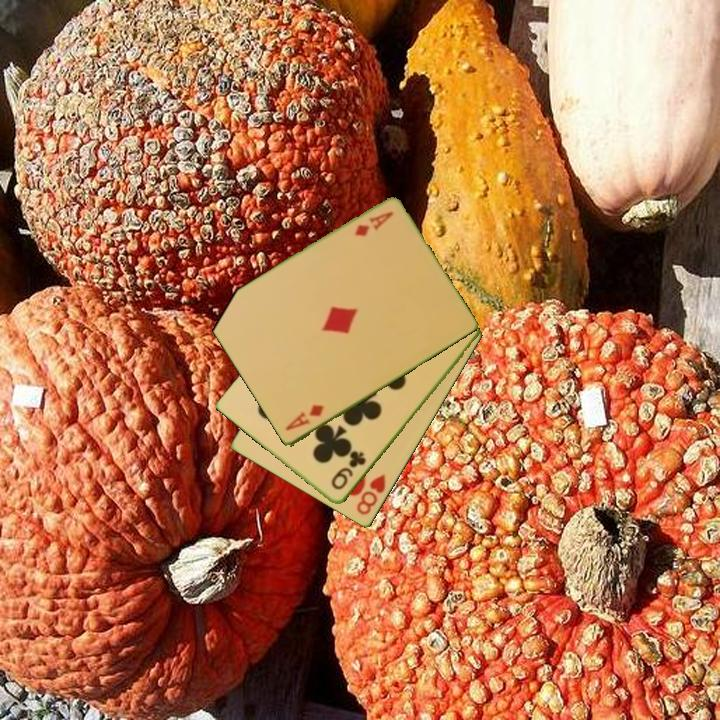8h: (353, 471, 389, 518)
9c: (328, 448, 369, 493)
Ad: (282, 401, 327, 434), (351, 208, 397, 240)
